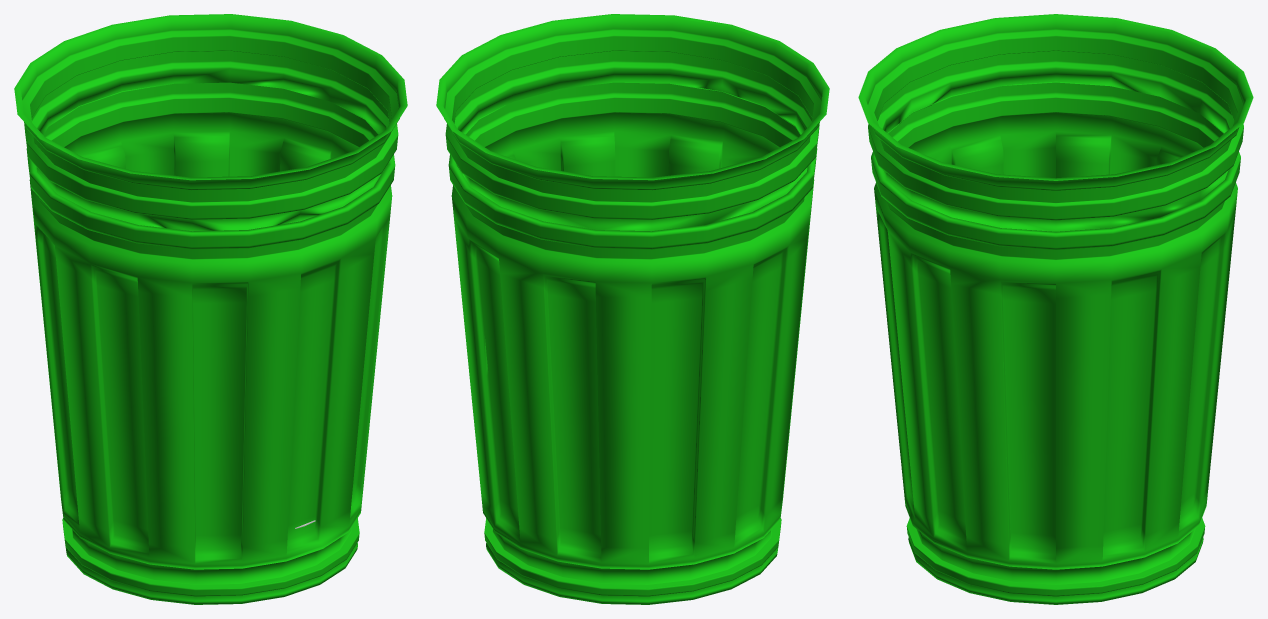
File: boteverde.dae
The picture shows the model from 3 angles, left to right: view 1: azimuth 30°, elevation 25°; view 2: azimuth 150°, elevation 25°; view 3: azimuth 270°, elevation 25°; orthographic projection.
Parts seen in each view (by area): view 1: Cylinder; view 2: Cylinder; view 3: Cylinder.
Boxes of the visible parts, x1=… form: Cylinder: x1=14, y1=14, x2=407, y2=604; Cylinder: x1=436, y1=14, x2=829, y2=604; Cylinder: x1=858, y1=14, x2=1253, y2=604.
Size of the model in its own units: 2.07 by 2.57 by 2.07.
